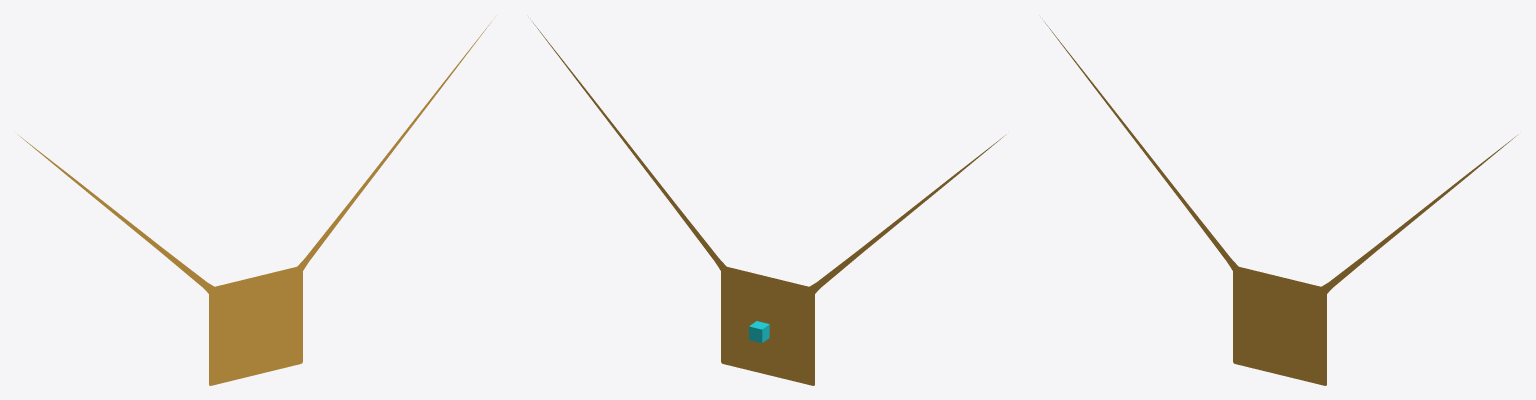
The picture shows the model from 3 angles, left to right: view 1: azimuth 30°, elevation 25°; view 2: azimuth 150°, elevation 25°; view 3: azimuth 330°, elevation 25°; orthographic projection.
Parts seen in each view (by area): view 1: Plane; view 2: Plane; view 3: Plane.
Part boxes in pixels (x1,y1,x2,y2): Plane: [17, 21, 491, 385]; Plane: [532, 21, 1006, 385]; Plane: [1044, 21, 1518, 385].
Bounding box in the file's own units: 74.05 × 44.21 × 3.28.
